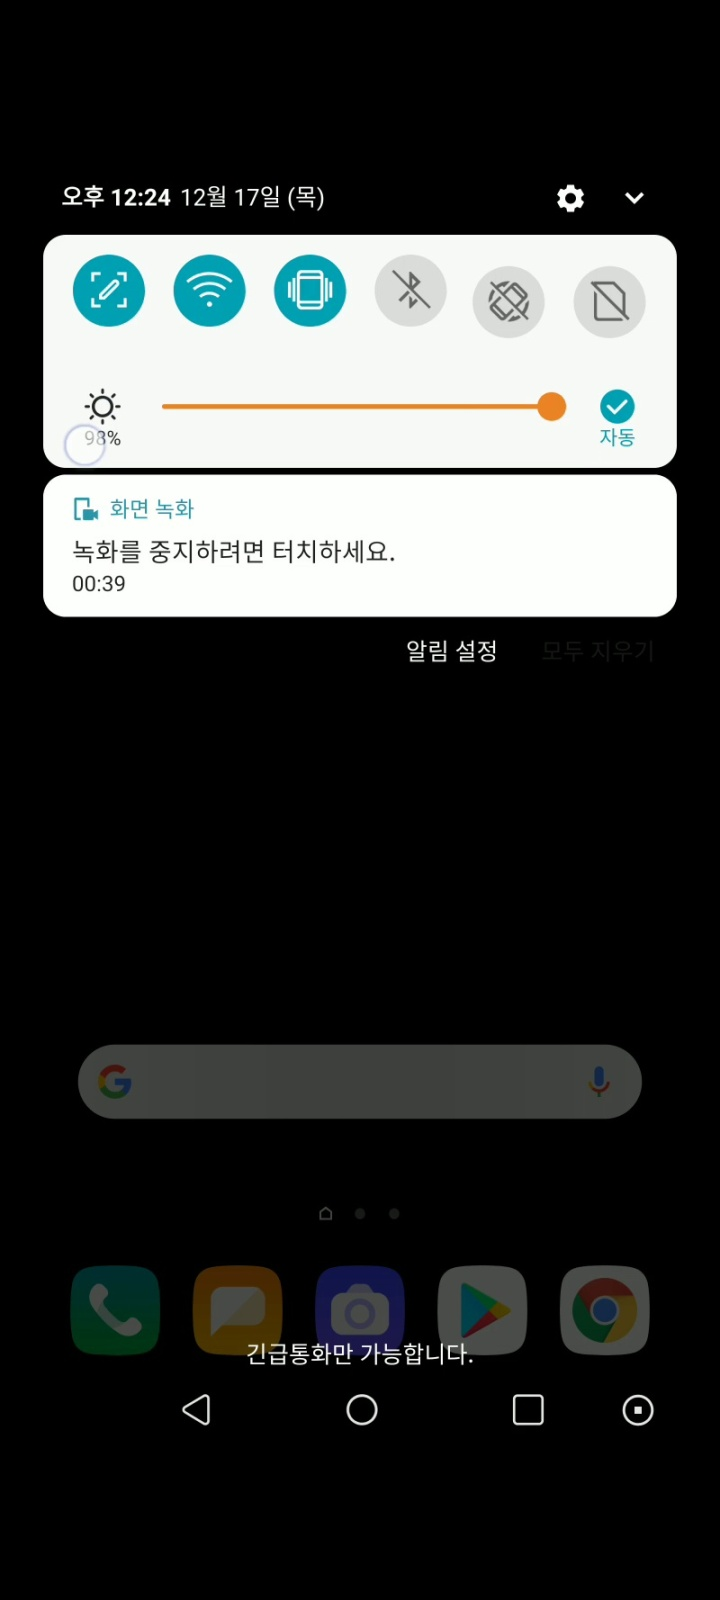Cursor: (63, 424, 108, 469)
